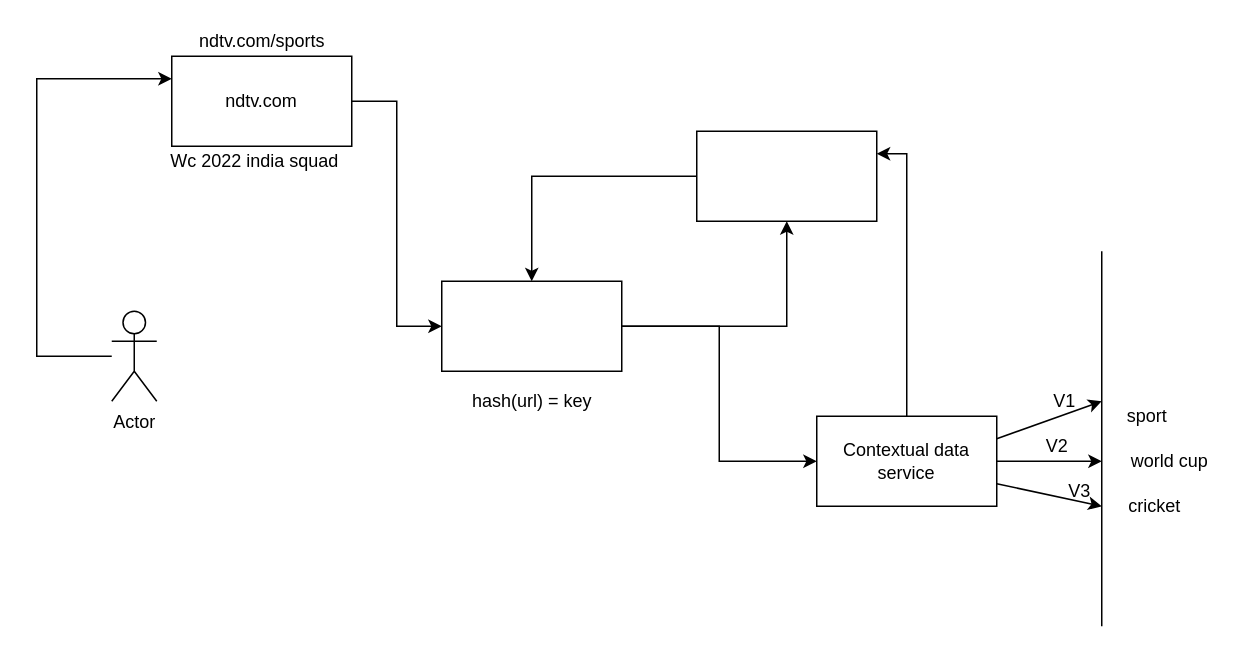
The diagram is 1248 pixels wide and 654 high, and some of its shapes have lost their labels. Each missing label, with the centre of its shape:
"Adserver" belongs at pixel 531 325.
"Distributed Memcache cluster" belongs at pixel 786 175.
